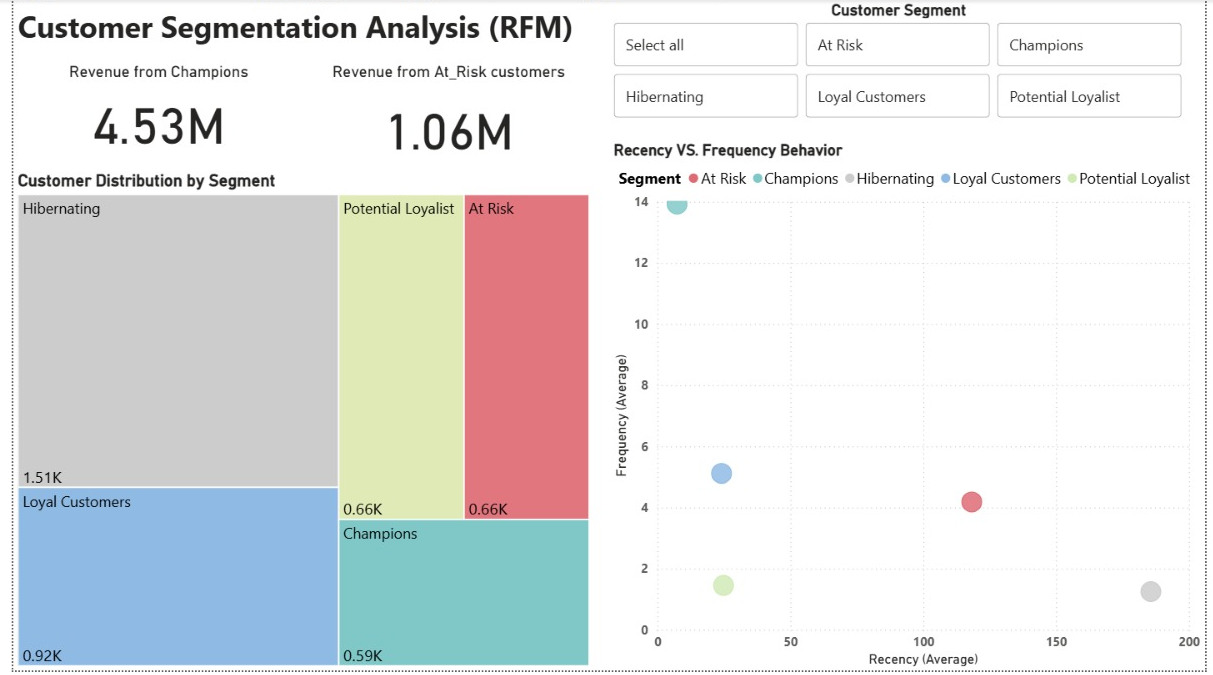

What the dashboard file says about the page in this screenshot:
{"tool":"powerbi","page":{"name":"final","canvas":[1280,720],"ordinal":1},"visuals":[{"type":"textbox","box":[0,0,623.3,91.1],"z":0},{"type":"advancedSlicerVisual","title":"Customer Segment","fields":{"Values":["rfm_final.Segment"]},"box":[640,0,622.5,132.5],"z":1},{"type":"treemap","title":"Customer Distribution by Segment","fields":{"Group":["rfm_final.Segment"],"Values":["CountNonNull(rfm_final.Frequency)"]},"box":[0,182.5,623.8,537.5],"z":2},{"type":"card","title":"Revenue from Champions","fields":{"Values":["Sum(rfm_final.Monetary)"]},"box":[0,66.2,312.5,103.8],"z":4},{"type":"card","title":"Revenue from At_Risk customers","fields":{"Values":["Sum(rfm_final.Monetary)"]},"box":[311.2,66.2,312.5,116.2],"z":5},{"type":"scatterChart","title":"Recency VS. Frequency Behavior","fields":{"X":["Avg(rfm_final.Recency)"],"Y":["Avg(rfm_final.Frequency)"],"Series":["rfm_final.Segment"]},"box":[640,150,640,570],"z":6}]}

Visuals, with their boxes in screenshot pixels (x1, y1, x2, y2), scaled from the page's 1280x720 canvas onto the 1213x675 screenshot:
textbox: x1=0, y1=0, x2=591, y2=85
"Customer Segment" advancedSlicerVisual: x1=606, y1=0, x2=1196, y2=124
"Customer Distribution by Segment" treemap: x1=0, y1=171, x2=591, y2=674
"Revenue from Champions" card: x1=0, y1=62, x2=296, y2=159
"Revenue from At_Risk customers" card: x1=295, y1=62, x2=591, y2=171
"Recency VS. Frequency Behavior" scatterChart: x1=606, y1=141, x2=1212, y2=674
